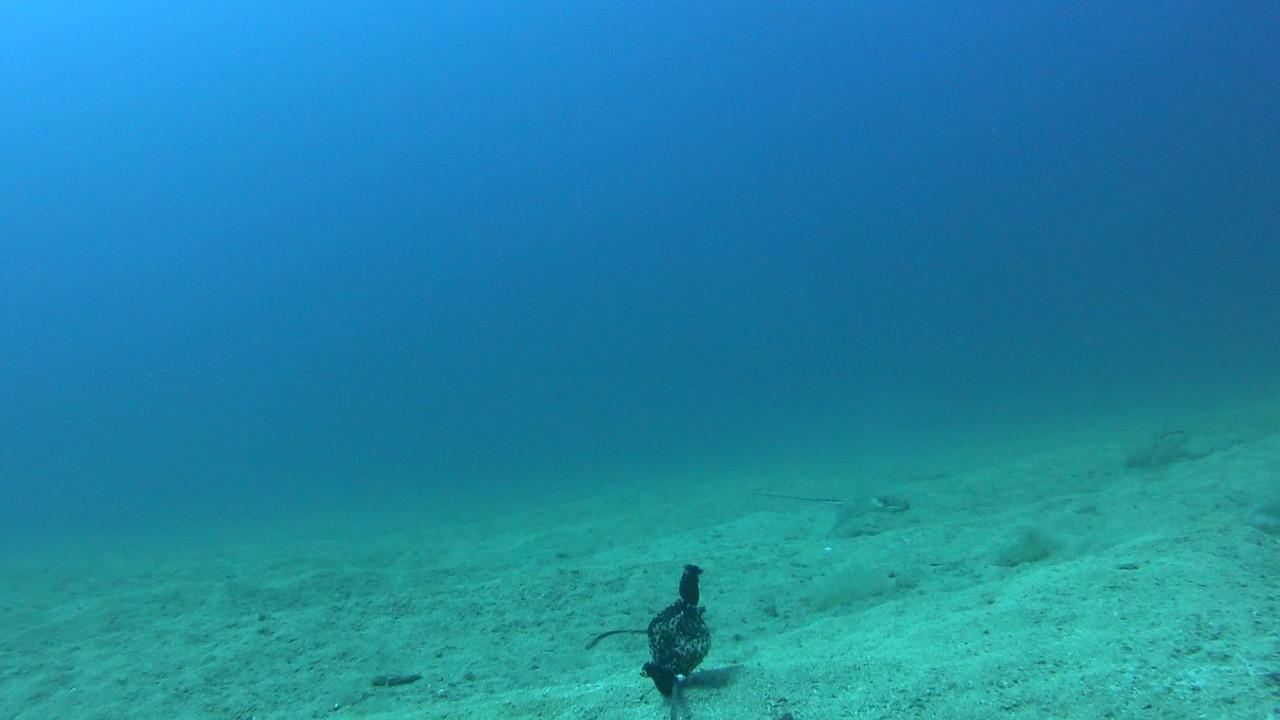myliobatis: (730, 470, 916, 536)
